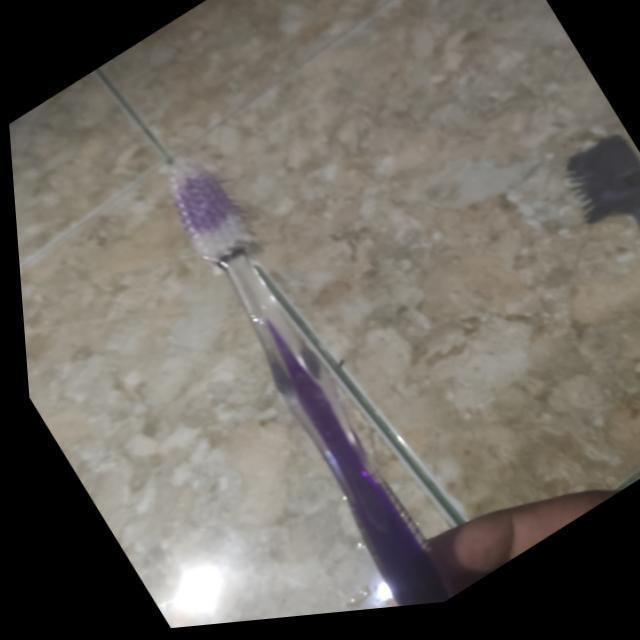toothbrush: (140, 133, 452, 631)
